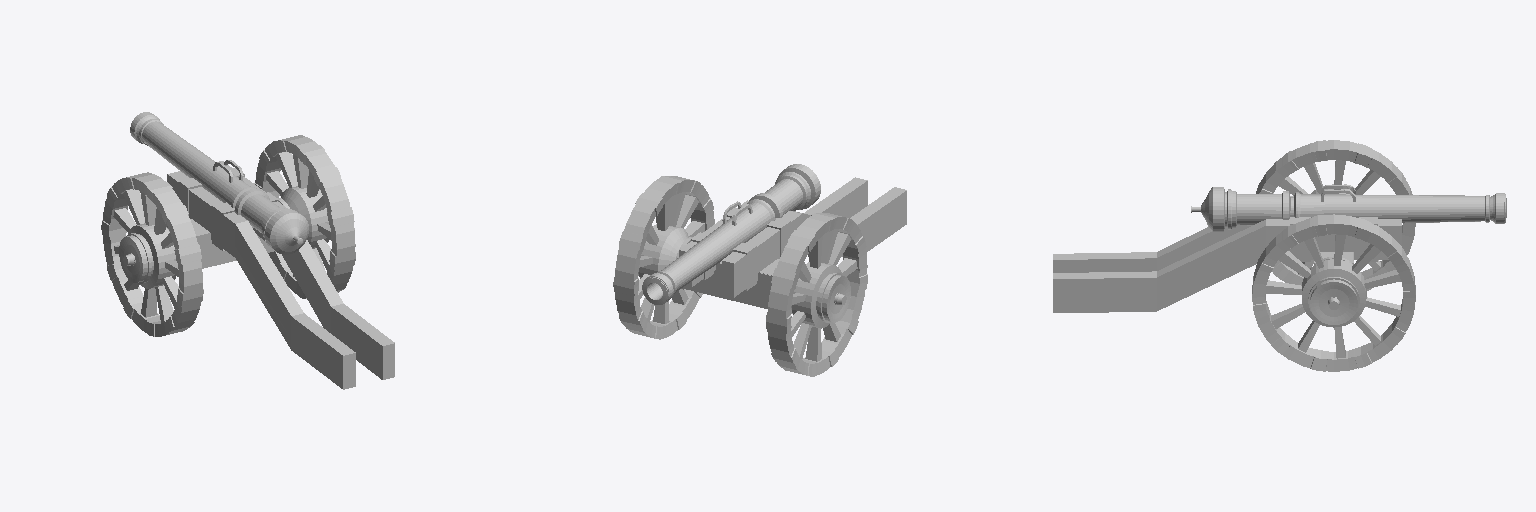
Rendered from FalconetCannon.obj.
3 renders of one model, left to right at view 1: azimuth 30°, elevation 25°; view 2: azimuth 150°, elevation 25°; view 3: azimuth 270°, elevation 25°, orthographic.
Parts seen in each view (by area): view 1: Circle.001; view 2: Circle.001; view 3: Circle.001.
Boxes of the visible parts, x1=… form: Circle.001: x1=101, y1=112, x2=394, y2=389; Circle.001: x1=613, y1=164, x2=906, y2=376; Circle.001: x1=1053, y1=140, x2=1506, y2=371.
Size of the model in its own units: 12.68 by 8.71 by 24.11.